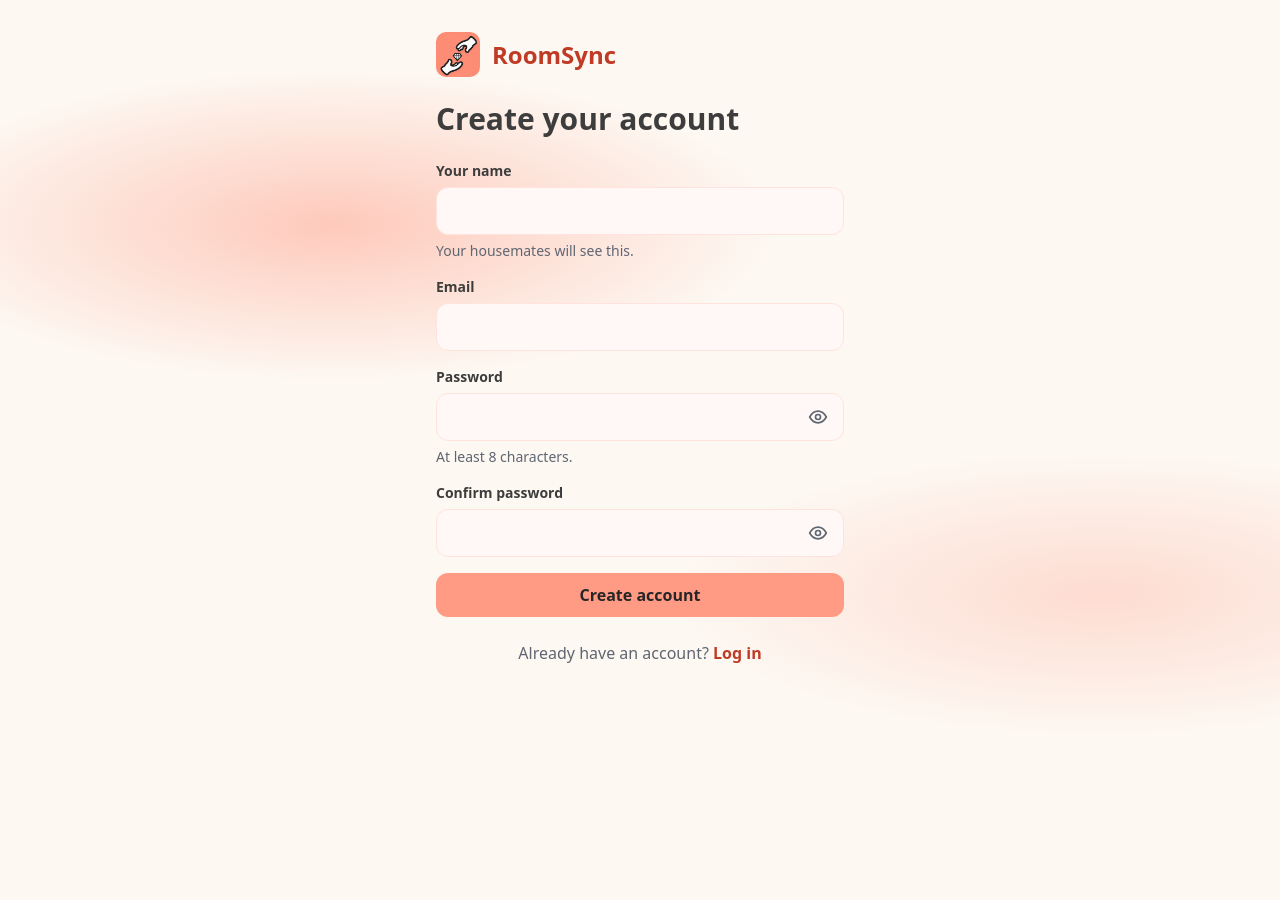
it: SignUpScreen › a network failure uses the friendly message, not raw text
Type "Aarav" into the field labelled "Your name" at (640, 211), box [436, 187, 844, 235]
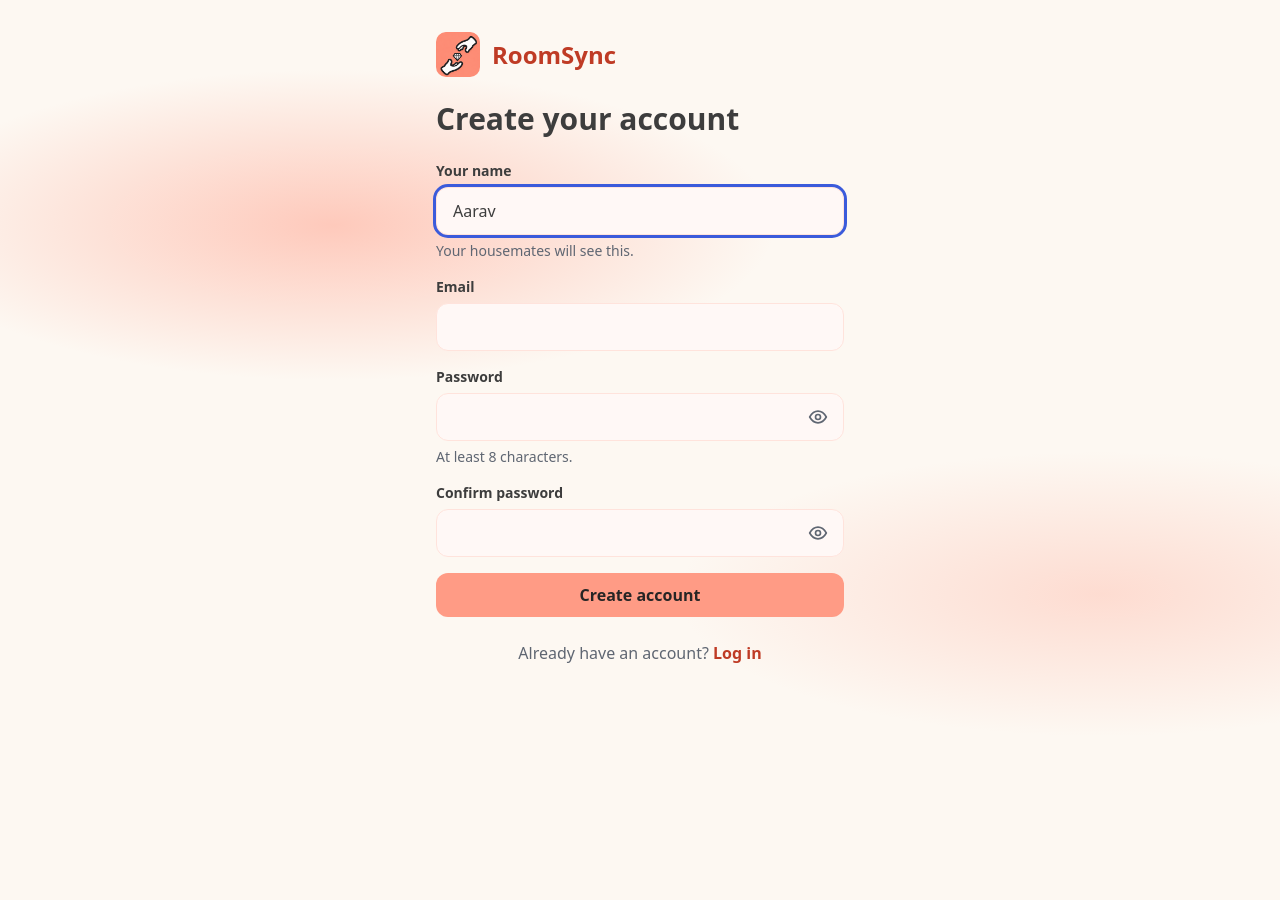
Type "aarav@example.com" into the field labelled "Email" at (640, 327), box [436, 303, 844, 351]
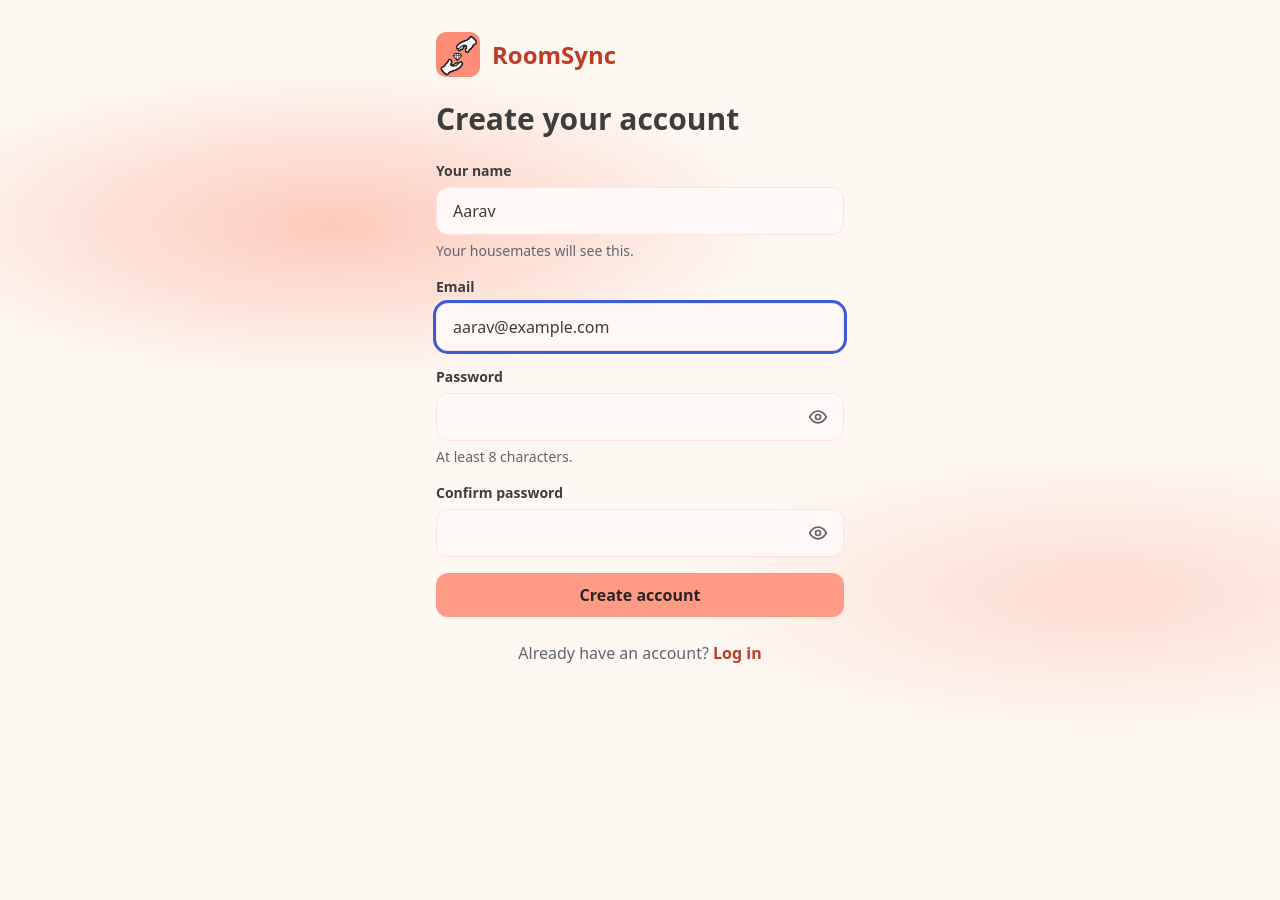
Type "longenough" into the password field labelled "Password" at (640, 417), box [436, 393, 844, 441]
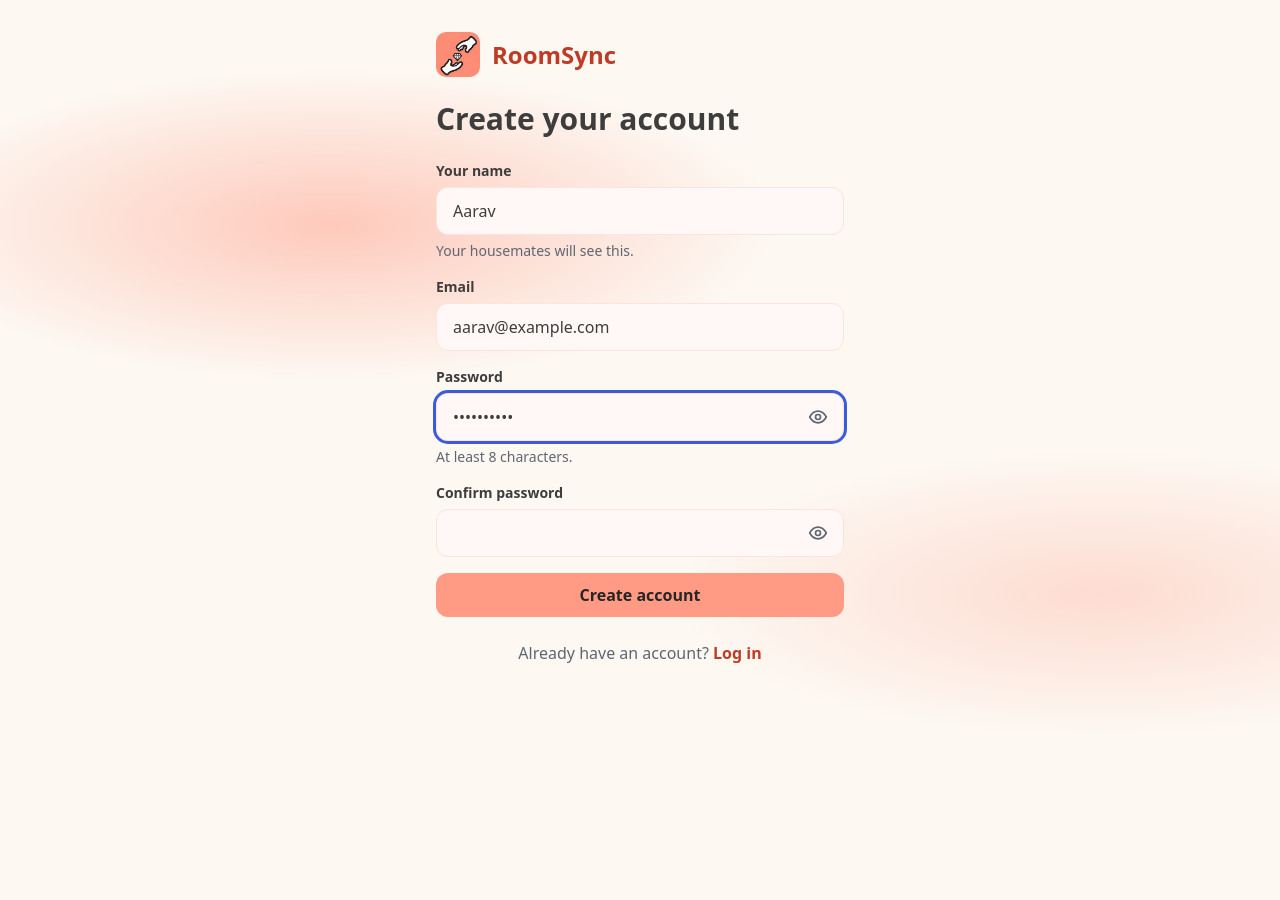
Type "longenough" into the password field labelled "Confirm password" at (640, 533), box [436, 509, 844, 557]
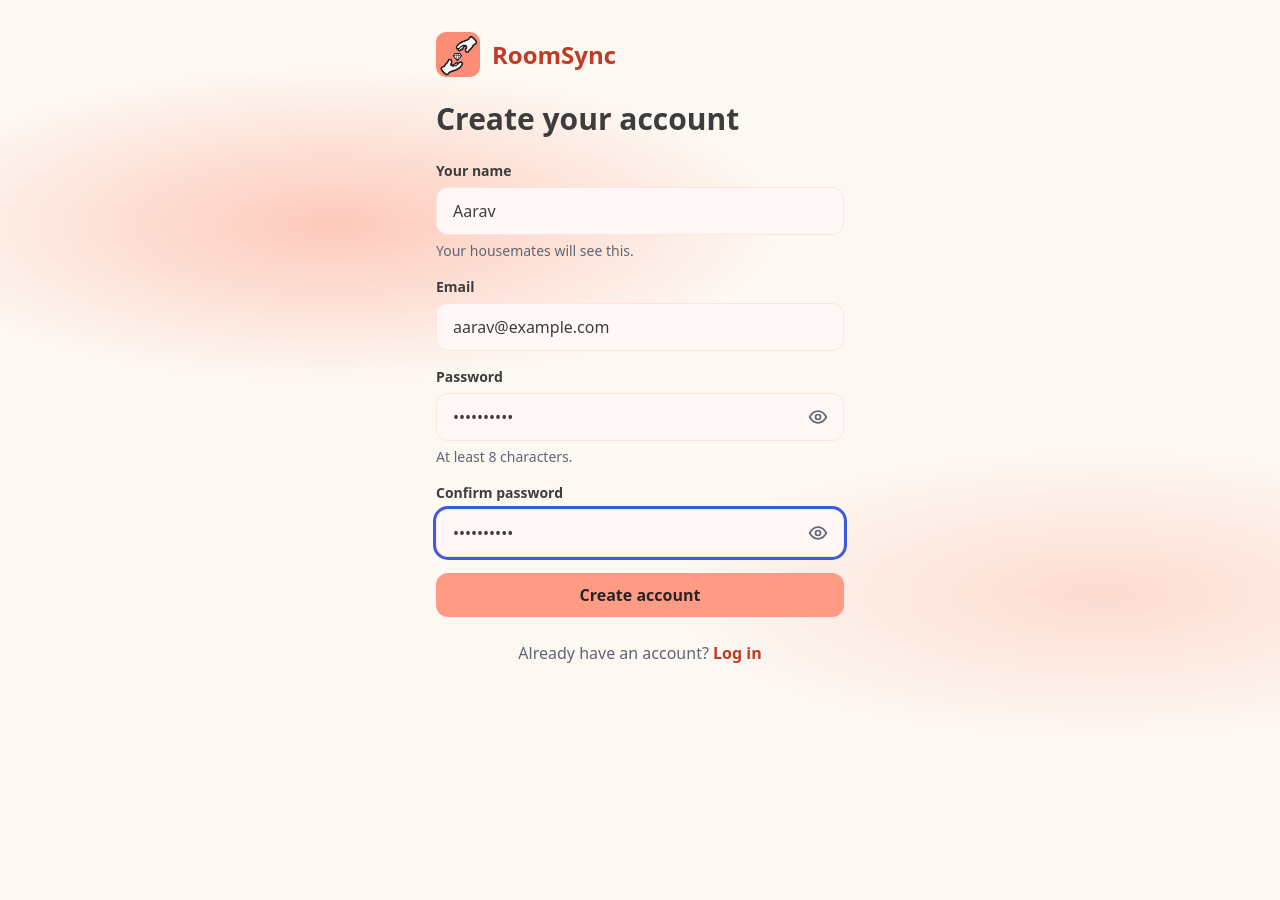
Click the button "Create account" at (640, 595), box [436, 573, 844, 617]
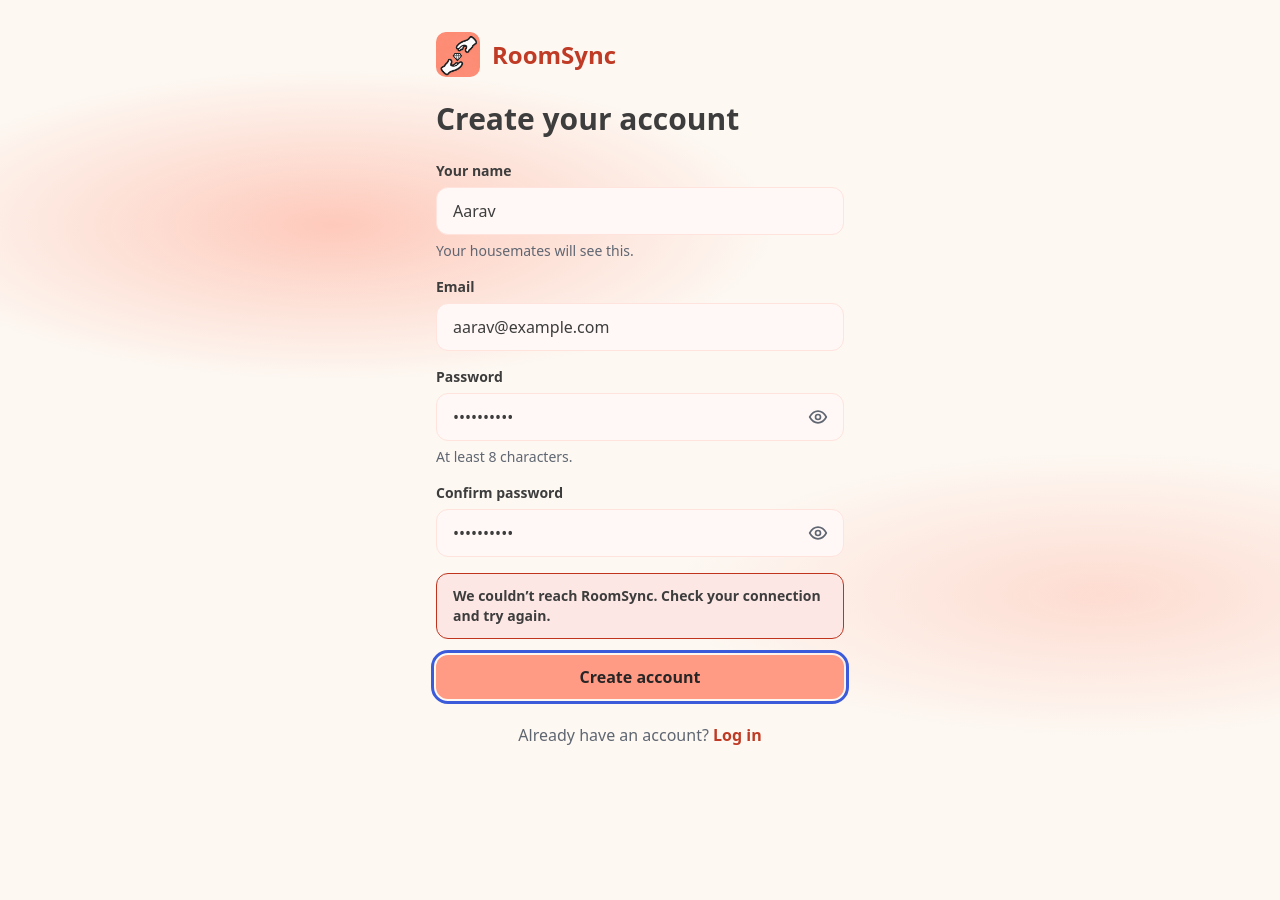
Now the message reads "We couldn’t reach RoomSync. Check your connection and try again.", box [453, 586, 821, 625]
